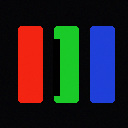4 line_v: (53, 39, 59, 95)
